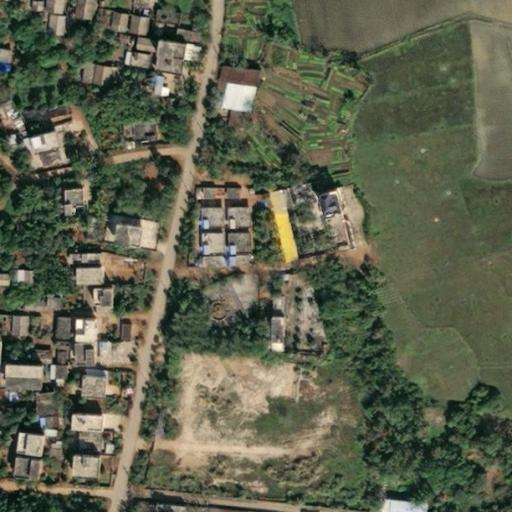building: (259, 188, 292, 263), (216, 83, 247, 113), (3, 370, 40, 394), (14, 108, 61, 126), (95, 217, 146, 233), (11, 456, 38, 485), (124, 121, 153, 146), (21, 126, 51, 150), (72, 459, 100, 484), (37, 11, 63, 37), (68, 320, 94, 345), (294, 248, 328, 267), (13, 435, 41, 458), (68, 345, 93, 370), (83, 65, 109, 89), (92, 225, 119, 246), (28, 394, 51, 418), (155, 43, 184, 62), (49, 341, 68, 370), (72, 266, 98, 287), (93, 344, 116, 367), (96, 122, 117, 147), (70, 418, 99, 436), (118, 15, 141, 37), (64, 0, 87, 22), (193, 209, 218, 229), (207, 65, 224, 94), (220, 208, 243, 229), (100, 12, 121, 34), (312, 189, 334, 210), (69, 434, 93, 453), (192, 235, 217, 253), (149, 59, 175, 76), (78, 378, 98, 400), (221, 235, 244, 254), (334, 220, 348, 251), (49, 320, 68, 341), (123, 53, 145, 71), (0, 317, 17, 340), (382, 502, 421, 512), (60, 189, 78, 209), (31, 152, 52, 168), (61, 256, 94, 266), (138, 160, 155, 179), (89, 292, 109, 308), (127, 39, 148, 54), (220, 109, 236, 128), (74, 63, 86, 87), (36, 0, 56, 13), (132, 232, 145, 252), (0, 44, 13, 64), (24, 352, 46, 363), (261, 296, 275, 313), (195, 257, 213, 270), (120, 5, 139, 17), (111, 326, 123, 345), (166, 30, 187, 40), (152, 505, 182, 512), (22, 0, 38, 13), (39, 444, 52, 459), (75, 370, 99, 378), (143, 21, 154, 38), (144, 84, 158, 97), (124, 83, 140, 94), (267, 345, 280, 358), (110, 33, 124, 45), (193, 189, 207, 200), (126, 0, 145, 8), (114, 52, 125, 65), (39, 365, 46, 384), (216, 189, 229, 199), (61, 209, 72, 220), (372, 501, 383, 512), (11, 272, 23, 282), (220, 254, 229, 267), (39, 418, 50, 428), (98, 387, 108, 397), (207, 189, 217, 199), (268, 318, 280, 326), (92, 122, 97, 141), (116, 345, 122, 360), (96, 445, 105, 455), (229, 254, 238, 263), (312, 344, 320, 354), (34, 431, 46, 437), (145, 78, 155, 85), (311, 233, 321, 240), (271, 333, 279, 341), (79, 110, 89, 116), (329, 246, 338, 252)
